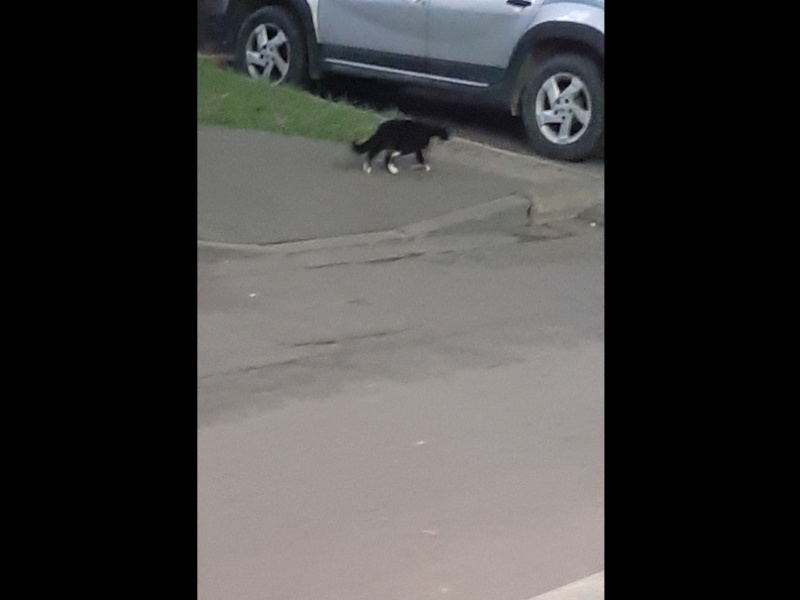cat: (347, 113, 454, 175)
